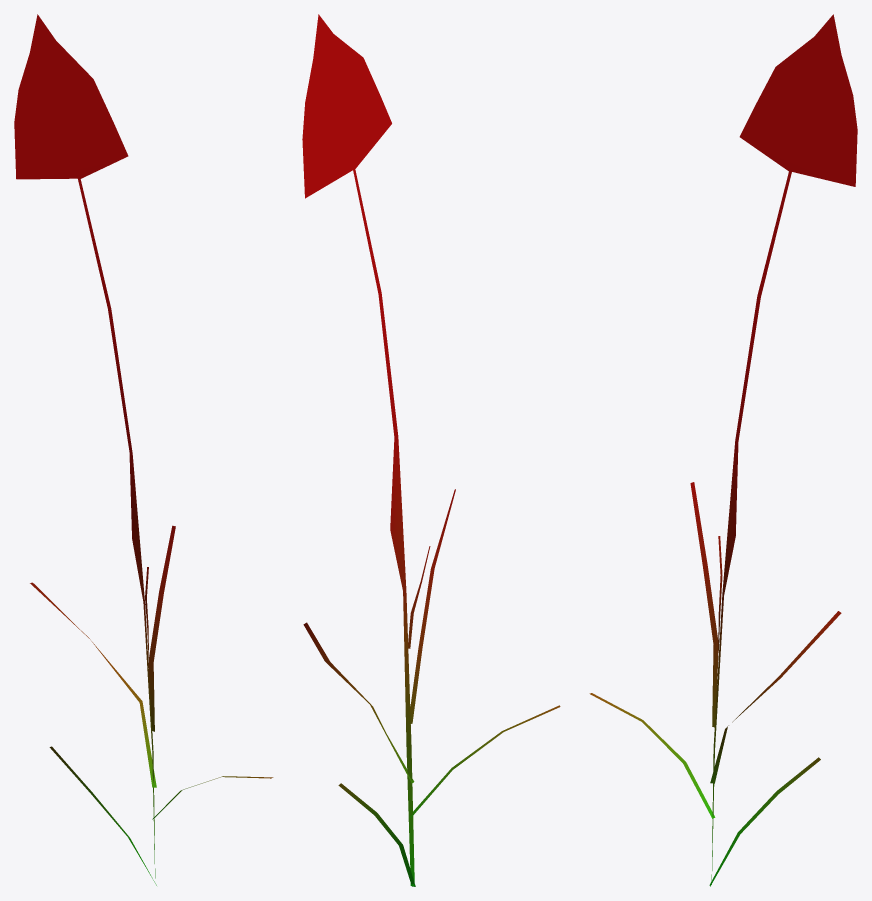
Rendered from Tundra Grass_LOD6_Var10_wk2oaeyqx.fbx.
3 views of the same model, side by side, from view 1: azimuth 90°, elevation 25°; view 2: azimuth 150°, elevation 25°; view 3: azimuth 270°, elevation 25° (orthographic). The views are drawn at different scales.
Parts seen in each view (by area): view 1: _l778_Var10_LOD6; view 2: _l778_Var10_LOD6; view 3: _l778_Var10_LOD6.
Boxes of the visible parts, left/top/right/bottom form: _l778_Var10_LOD6: left=14, top=14, right=273, bottom=885; _l778_Var10_LOD6: left=302, top=14, right=560, bottom=886; _l778_Var10_LOD6: left=589, top=14, right=857, bottom=886.
Bounding box in the file's own units: 10.52 × 66.19 × 18.14.
